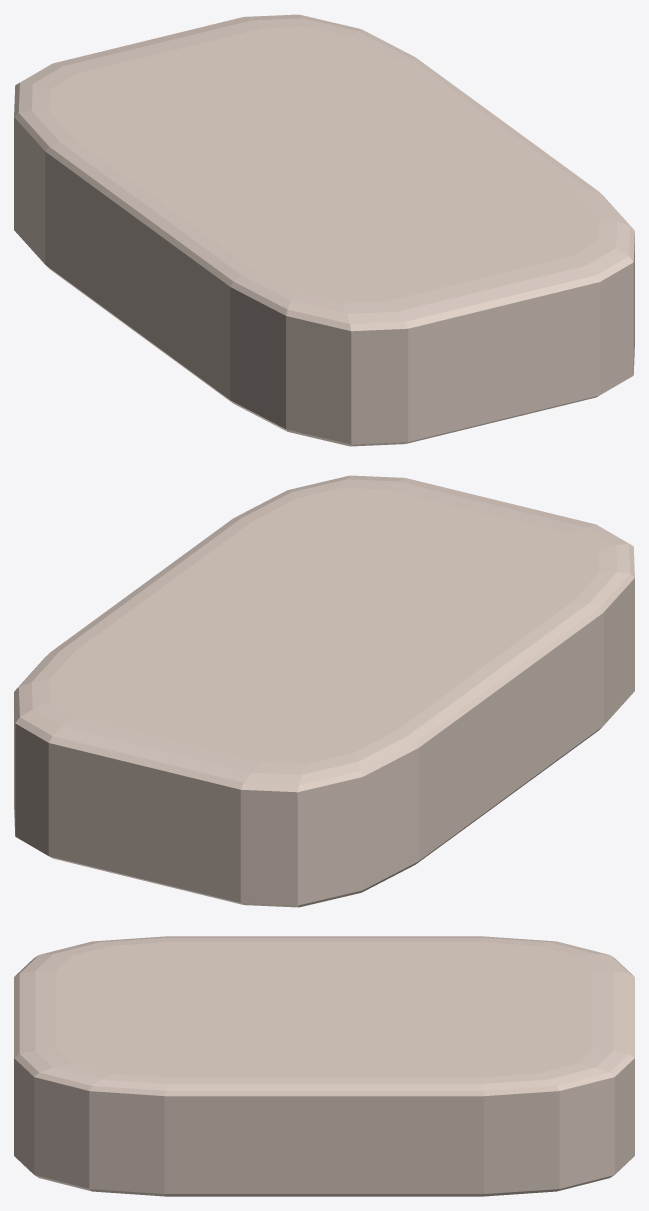
Rendered from stone6.fbx.
3 views of the same model, one above another, from view 1: azimuth 30°, elevation 25°; view 2: azimuth 150°, elevation 25°; view 3: azimuth 270°, elevation 25° (orthographic). The views are drawn at different scales.
Visible parts, largest first — view 1: 立方体.003; view 2: 立方体.003; view 3: 立方体.003.
Boxes of the visible parts, x1,y1,x2,y2 form: 立方体.003: (14, 14, 634, 446); 立方体.003: (14, 475, 634, 907); 立方体.003: (14, 936, 634, 1196).
Bounding box in the file's own units: 120 × 40.3 × 200.
